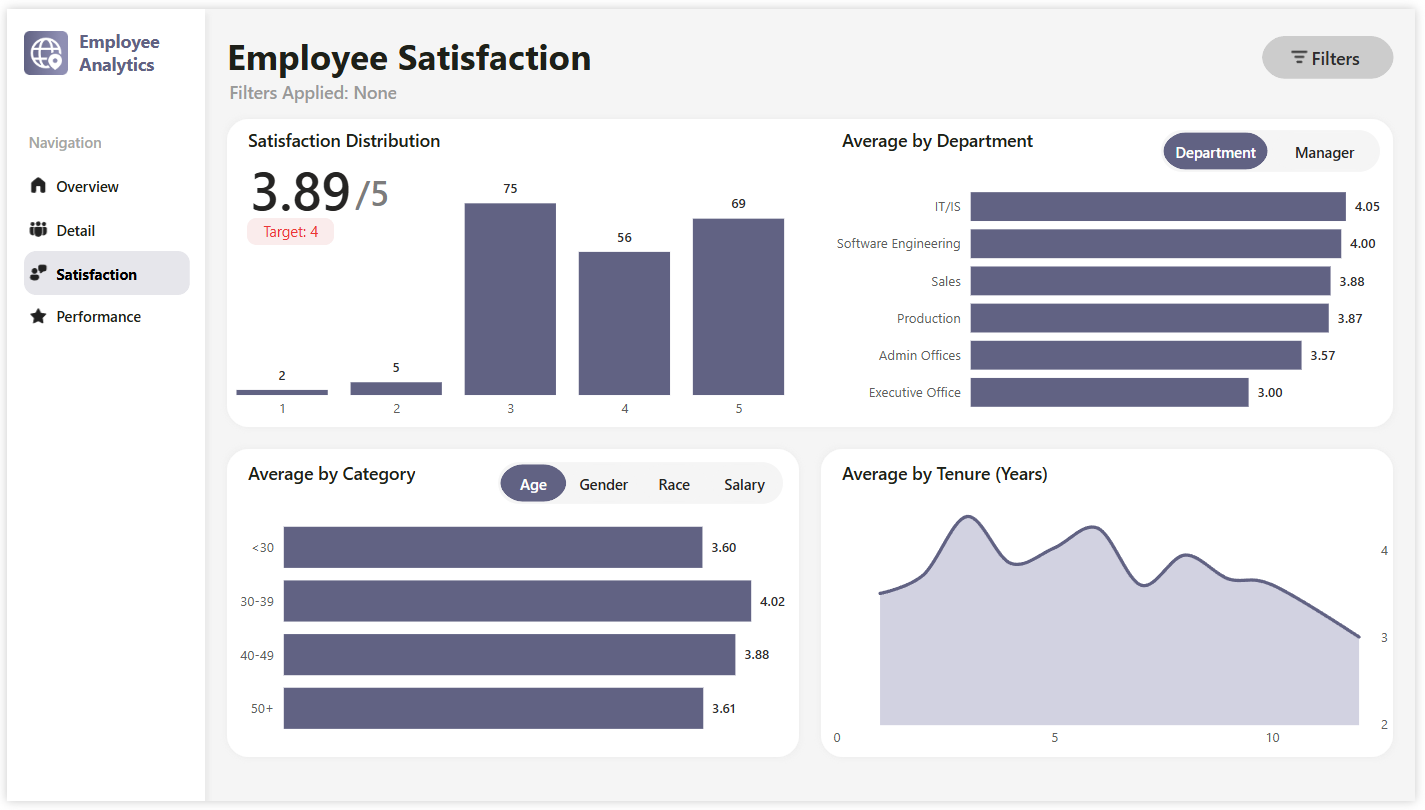

Layout of this report page (visuals, bound fields, positions):
{"tool":"powerbi","page":{"name":"Satisfaction","canvas":[1280,720],"ordinal":2},"visuals":[{"type":"shape","box":[65,18,105.8,42],"z":0,"group":"g1"},{"type":"shape","box":[738.7,98.1,399.6,40.4],"z":0},{"type":"image","box":[15,20.2,40.3,40.3],"z":1000,"group":"g1"},{"type":"shape","box":[199.1,401.1,399.6,40.4],"z":1000},{"type":"clusteredBarChart","fields":{"Category":["Department.Department"],"Y":["_Measures.averageEmpSatisfaction"]},"box":[738.7,139.9,518,240.9],"z":2000},{"type":"clusteredColumnChart","fields":{"Category":["Employee.EmpSatisfaction"],"Y":["_Measures.activeEmps"]},"box":[203.4,139.9,507.9,240.9],"z":3000},{"type":"advancedSlicerVisual","fields":{"Values":["DeptManagerParam.DeptManagerParam"]},"box":[1048,109,200.5,40.4],"z":4000},{"type":"actionButton","box":[15,140,150,40],"z":5000},{"type":"actionButton","box":[15,180,150.8,40],"z":6000},{"type":"actionButton","box":[15,220,150.8,40],"z":7000},{"type":"actionButton","box":[15,259,150.8,39.8],"z":8000},{"type":"actionButton","box":[15,100,150.8,40],"z":9000},{"type":"clusteredBarChart","fields":{"Category":["Employee.AgeCategory"],"Y":["_Measures.averageEmpSatisfaction"]},"box":[203.4,438.6,513.6,242.4],"z":10000},{"type":"shape","box":[200,20,400,50],"z":11000},{"type":"shape","box":[200,60,400,30],"z":12000},{"type":"shape","box":[198.8,98.1,400,40],"z":13000},{"type":"cardVisual","fields":{"Data":["_Measures.averageEmpSatisfaction"]},"box":[199.1,105.3,134.2,105.3],"z":14000},{"type":"shape","box":[217.9,190,79.4,24.5],"z":15000},{"type":"shape","box":[311.6,138.5,134.2,54.8],"z":16000},{"type":"actionButton","box":[1141.2,24.5,119.7,39],"z":17000},{"type":"group","id":"g1","title":"Group 1","box":[15,18,155.8,42.5],"z":18000},{"type":"lineChart","fields":{"Y":["_Measures.averageEmpSatisfaction"],"Category":["Employee.Tenure (Year)"]},"box":[738.8,438.4,522.1,241.9],"z":19000},{"type":"shape","box":[738.8,401.1,400.1,40.3],"z":20000},{"type":"advancedSlicerVisual","fields":{"Values":["paramDemographics.paramDemographics"]},"box":[445.8,411.2,261.1,40.4],"z":21000}]}

Visuals, with their boxes on the page's 1280x720 design canvas (x1, y1, x2, y2). These are canvas units, not pixel positions in the 1425x810 screenshot, which may show the page scaled, cropped or inside an application window:
shape: bbox=(65, 18, 171, 60)
shape: bbox=(739, 98, 1138, 138)
image: bbox=(15, 20, 55, 60)
shape: bbox=(199, 401, 599, 442)
clusteredBarChart - Department.Department x _Measures.averageEmpSatisfaction: bbox=(739, 140, 1257, 381)
clusteredColumnChart - Employee.EmpSatisfaction x _Measures.activeEmps: bbox=(203, 140, 711, 381)
advancedSlicerVisual - DeptManagerParam.DeptManagerParam: bbox=(1048, 109, 1248, 149)
actionButton: bbox=(15, 140, 165, 180)
actionButton: bbox=(15, 180, 166, 220)
actionButton: bbox=(15, 220, 166, 260)
actionButton: bbox=(15, 259, 166, 299)
actionButton: bbox=(15, 100, 166, 140)
clusteredBarChart - Employee.AgeCategory x _Measures.averageEmpSatisfaction: bbox=(203, 439, 717, 681)
shape: bbox=(200, 20, 600, 70)
shape: bbox=(200, 60, 600, 90)
shape: bbox=(199, 98, 599, 138)
cardVisual - _Measures.averageEmpSatisfaction: bbox=(199, 105, 333, 211)
shape: bbox=(218, 190, 297, 214)
shape: bbox=(312, 138, 446, 193)
actionButton: bbox=(1141, 24, 1261, 64)
"Group 1" group: bbox=(15, 18, 171, 60)
lineChart - _Measures.averageEmpSatisfaction x Employee.Tenure (Year): bbox=(739, 438, 1261, 680)
shape: bbox=(739, 401, 1139, 441)
advancedSlicerVisual - paramDemographics.paramDemographics: bbox=(446, 411, 707, 452)
